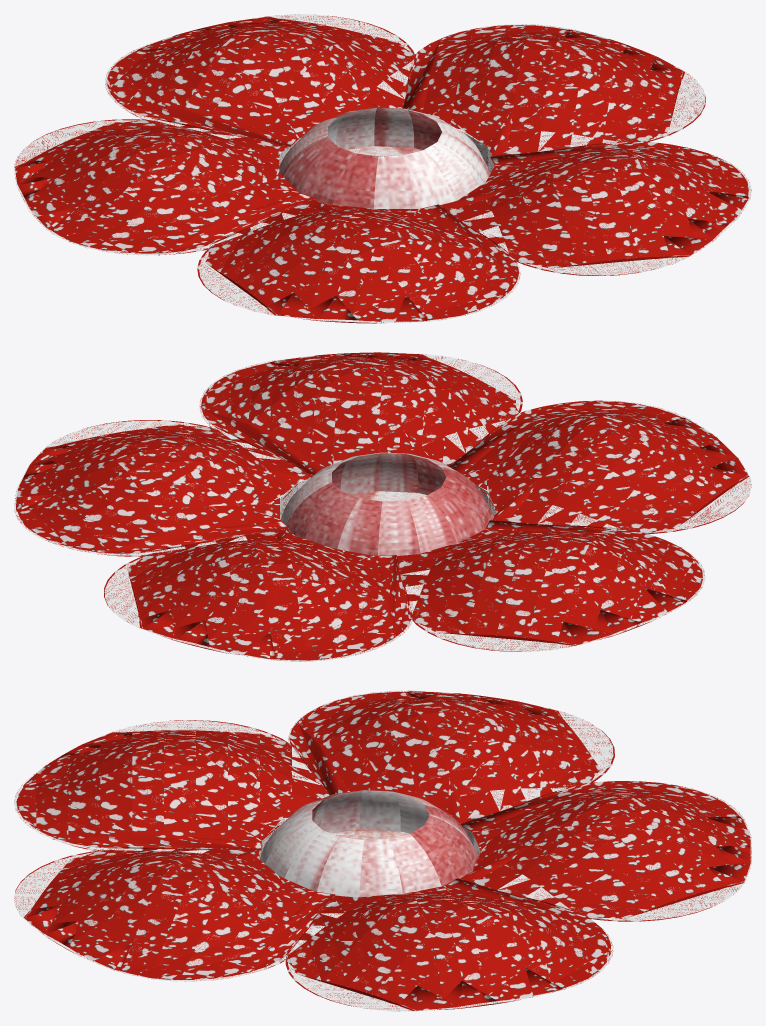
3 renders of one model, top to bottom at view 1: azimuth 30°, elevation 25°; view 2: azimuth 150°, elevation 25°; view 3: azimuth 270°, elevation 25°, orthographic. The views are drawn at different scales.
Visible parts, largest first — view 1: Component_1 (×5), group_1 (×2), group_0; view 2: Component_1 (×5), group_1 (×2), group_0; view 3: Component_1 (×5), group_1 (×2), group_0.
Part boxes in pixels (x1=…): Component_1 (×5): x1=15, y1=17, x2=748, y2=321; group_1 (×2): x1=279, y1=107, x2=490, y2=208; group_0: x1=14, y1=14, x2=751, y2=323; Component_1 (×5): x1=16, y1=352, x2=748, y2=660; group_1 (×2): x1=281, y1=452, x2=493, y2=555; group_0: x1=14, y1=353, x2=751, y2=661; Component_1 (×5): x1=16, y1=691, x2=750, y2=1010; group_1 (×2): x1=260, y1=790, x2=478, y2=897; group_0: x1=14, y1=690, x2=751, y2=1011.
Bounding box in the file's own units: 64.31 × 62.46 × 7.1.
4 materials, 3 textured.
